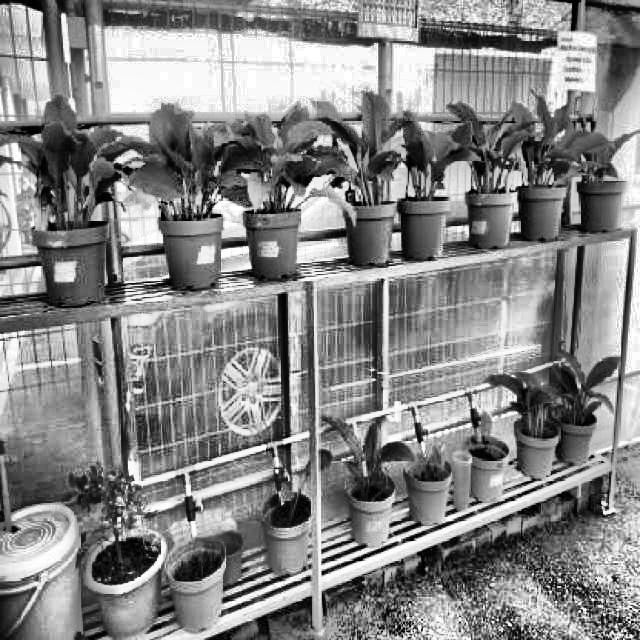plants: (1, 87, 137, 238), (205, 108, 343, 218), (124, 101, 242, 222), (301, 86, 410, 202), (440, 96, 529, 192), (394, 102, 478, 196), (552, 340, 626, 443), (500, 97, 578, 186), (330, 412, 410, 498), (482, 370, 570, 436), (560, 116, 634, 184)
